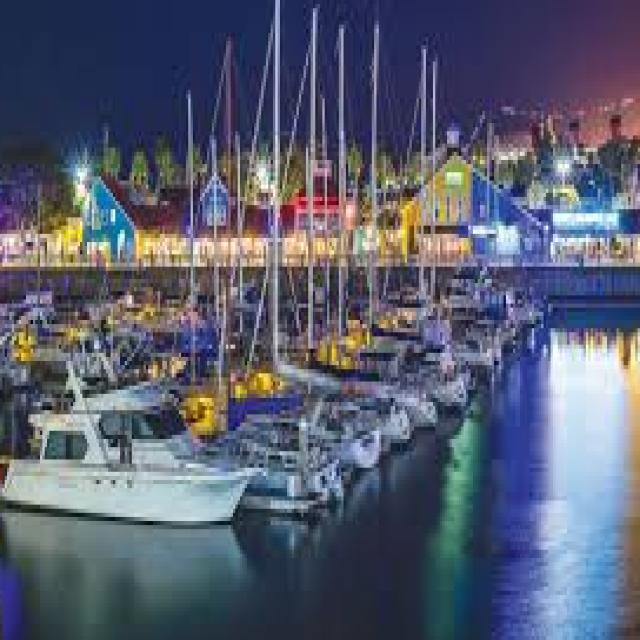houseboat: (0, 345, 247, 517)
